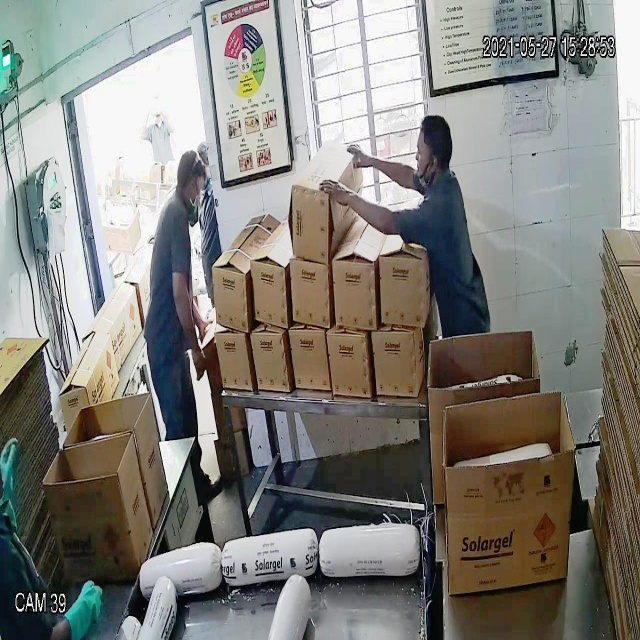Sin_gafas: (411, 138, 443, 166)
